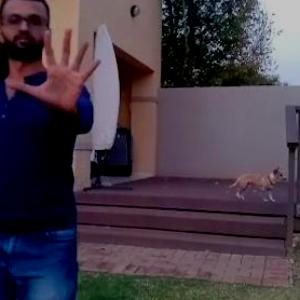follow_hand: (2, 23, 106, 121)
